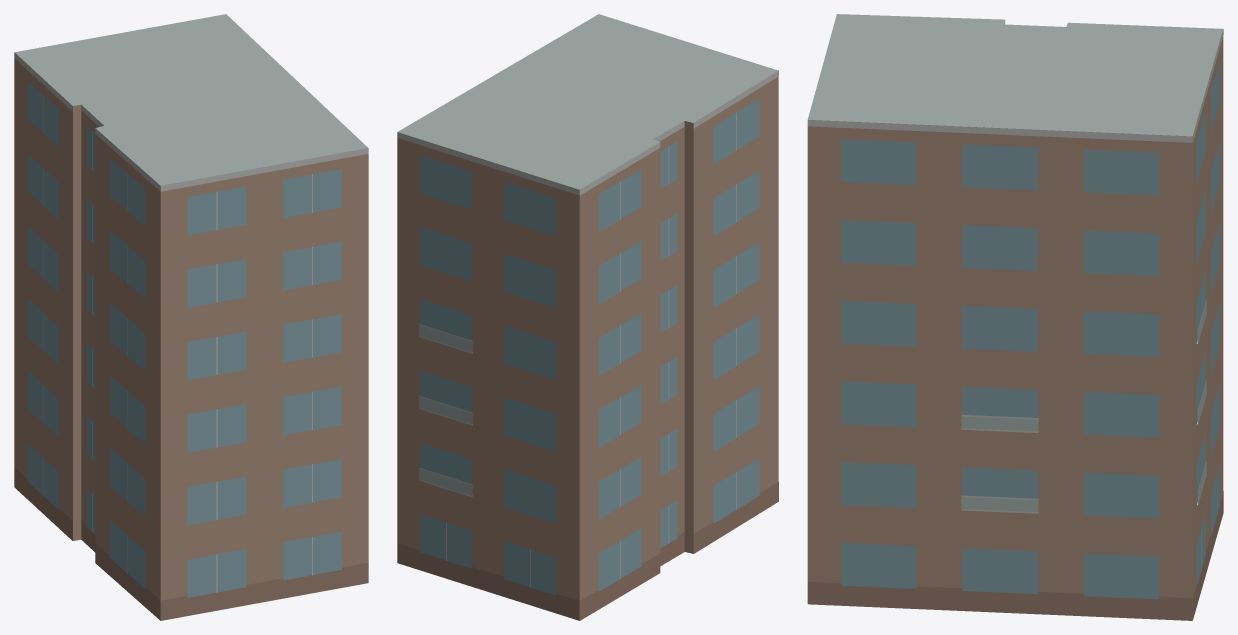
File: survey-upis-32645878.glb
The picture shows the model from 3 angles, left to right: view 1: azimuth 30°, elevation 25°; view 2: azimuth 150°, elevation 25°; view 3: azimuth 270°, elevation 25°; orthographic projection. The views are drawn at different scales.
Visible parts, largest first — view 1: survey-upis-32645878.tmp; view 2: survey-upis-32645878.tmp; view 3: survey-upis-32645878.tmp.
Part boxes in pixels (box(x1,y1,x2,y2)): survey-upis-32645878.tmp: box(14, 14, 368, 620); survey-upis-32645878.tmp: box(397, 14, 778, 620); survey-upis-32645878.tmp: box(807, 14, 1223, 620).
Bounding box in the file's own units: 9.87 × 18.2 × 14.17.
